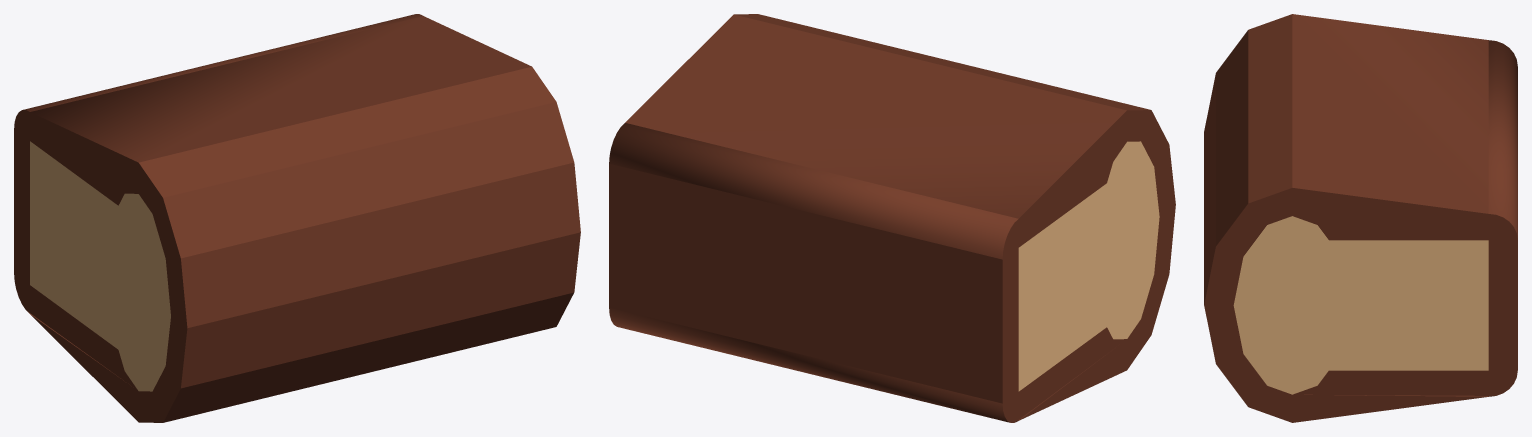
The model's file is bread_collision.obj.
The picture shows the model from 3 angles, left to right: view 1: azimuth 30°, elevation 25°; view 2: azimuth 150°, elevation 25°; view 3: azimuth 270°, elevation 25°; orthographic projection. The views are drawn at different scales.
Visible parts, largest first — view 1: loaf_ID7.002; view 2: loaf_ID7.002; view 3: loaf_ID7.002.
Part boxes in pixels (left/top/right/bottom): loaf_ID7.002: left=14, top=14, right=580, bottom=422; loaf_ID7.002: left=609, top=14, right=1175, bottom=422; loaf_ID7.002: left=1204, top=14, right=1517, bottom=422.
Bounding box in the file's own units: 0.4006 × 0.2528 × 0.3056.
